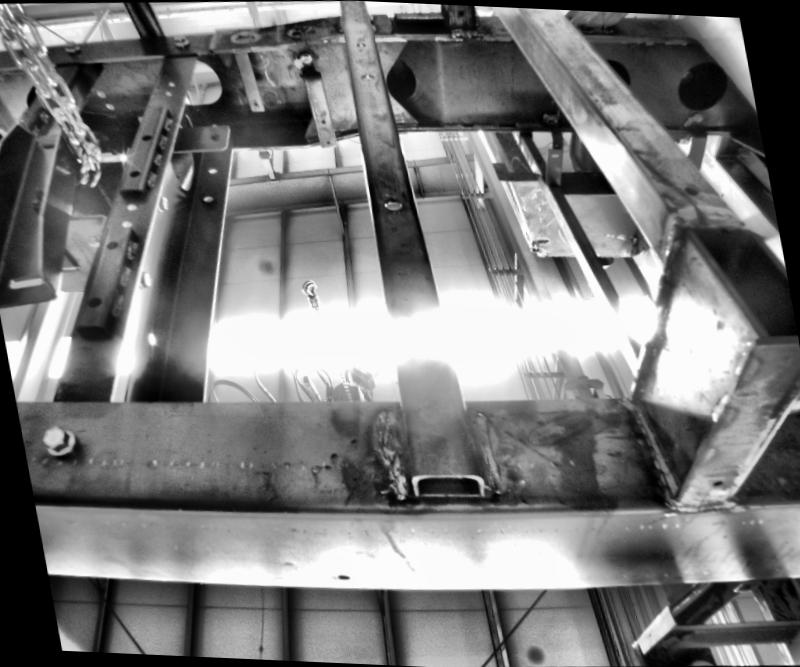bolt: (31, 418, 72, 452), (152, 191, 174, 213), (128, 265, 150, 286), (59, 38, 82, 56), (169, 30, 193, 47)
bracket: (295, 49, 333, 155), (172, 110, 232, 148), (234, 41, 265, 111), (532, 135, 574, 185)
hole: (398, 308, 431, 339), (380, 193, 407, 212), (681, 174, 702, 188), (138, 324, 152, 340), (710, 473, 724, 487), (358, 70, 374, 78), (202, 127, 215, 136), (119, 217, 132, 225), (125, 201, 136, 210), (162, 87, 172, 95), (548, 150, 559, 157), (336, 572, 348, 578), (201, 192, 211, 199), (318, 118, 326, 125), (455, 6, 463, 13), (207, 166, 216, 172), (250, 99, 258, 105), (166, 78, 174, 84), (353, 38, 362, 43), (323, 138, 331, 143)
welding: (462, 397, 511, 491), (374, 398, 402, 504)
